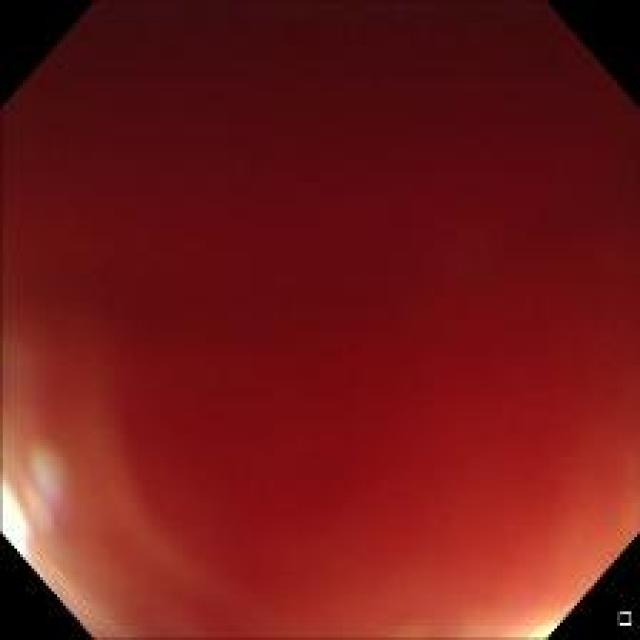color misalignment: (5, 6, 629, 625)
saturation: (0, 472, 30, 561)
